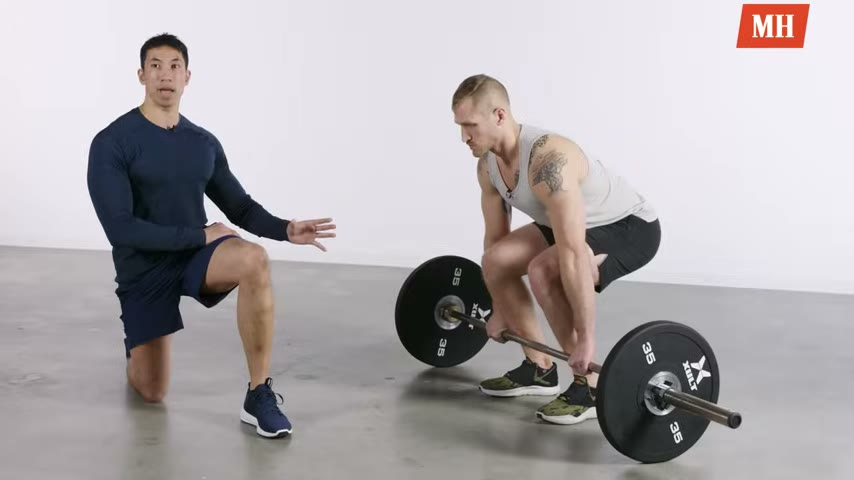barbell_plate_side: (390, 254, 475, 454), (643, 315, 746, 471)
